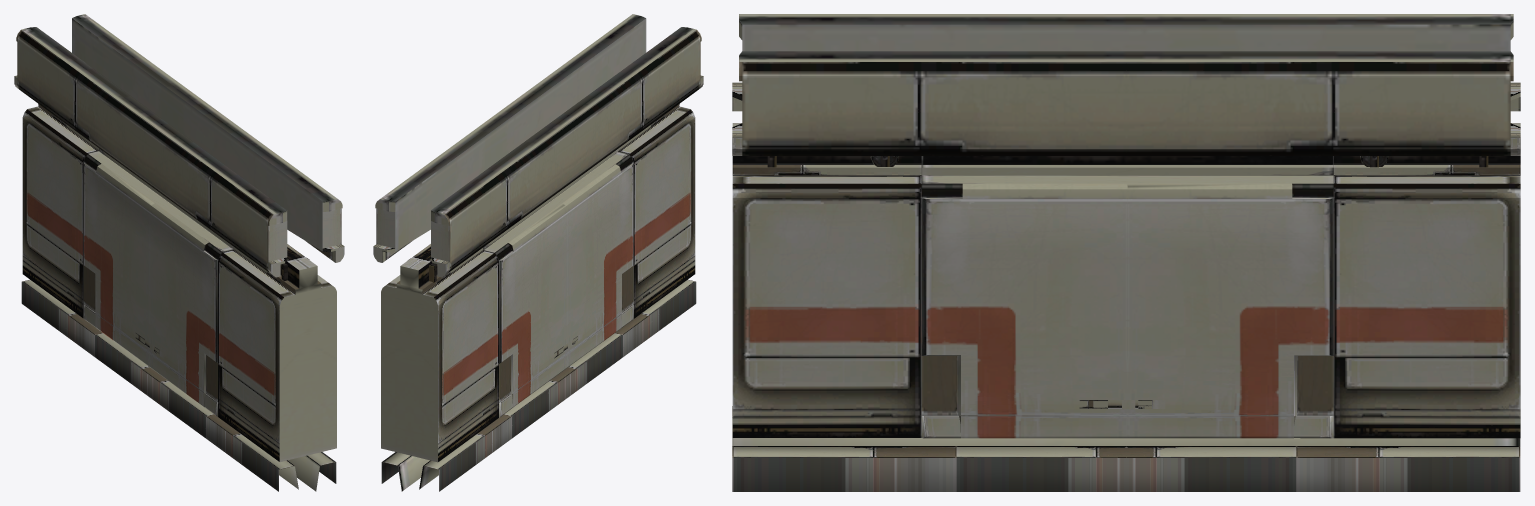
Rendered from Paradise_Door02_Static.FBX.
3 views of the same model, side by side, from view 1: azimuth 30°, elevation 25°; view 2: azimuth 150°, elevation 25°; view 3: azimuth 270°, elevation 25° (orthographic). The views are drawn at different scales.
Visible parts, largest first — view 1: Paradise_Door02_Static; view 2: Paradise_Door02_Static; view 3: Paradise_Door02_Static.
Boxes of the visible parts, x1,y1,x2,y2 form: Paradise_Door02_Static: (14,14,344,491); Paradise_Door02_Static: (373,14,703,491); Paradise_Door02_Static: (732,14,1520,491).
Bounding box in the file's own units: 1.32 × 4.9 × 8.
